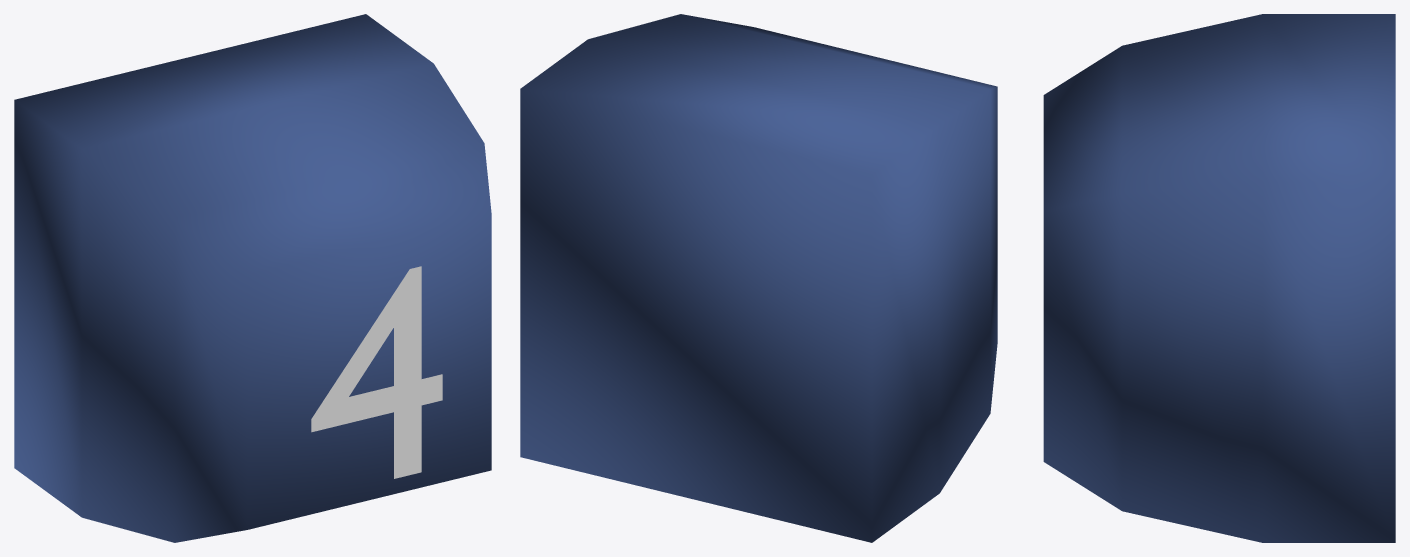
Rendered from lockbutton4.glb.
3 views of the same model, side by side, from view 1: azimuth 30°, elevation 25°; view 2: azimuth 150°, elevation 25°; view 3: azimuth 270°, elevation 25° (orthographic). The views are drawn at different scales.
Parts seen in each view (by area): view 1: Text.003; view 2: Text.003; view 3: Text.003.
Part boxes in pixels (left/top/right/bottom): Text.003: left=14, top=14, right=491, bottom=542; Text.003: left=520, top=14, right=997, bottom=542; Text.003: left=1043, top=14, right=1395, bottom=542.
Bounding box in the file's own units: 0.0488 × 0.0488 × 0.0452.
